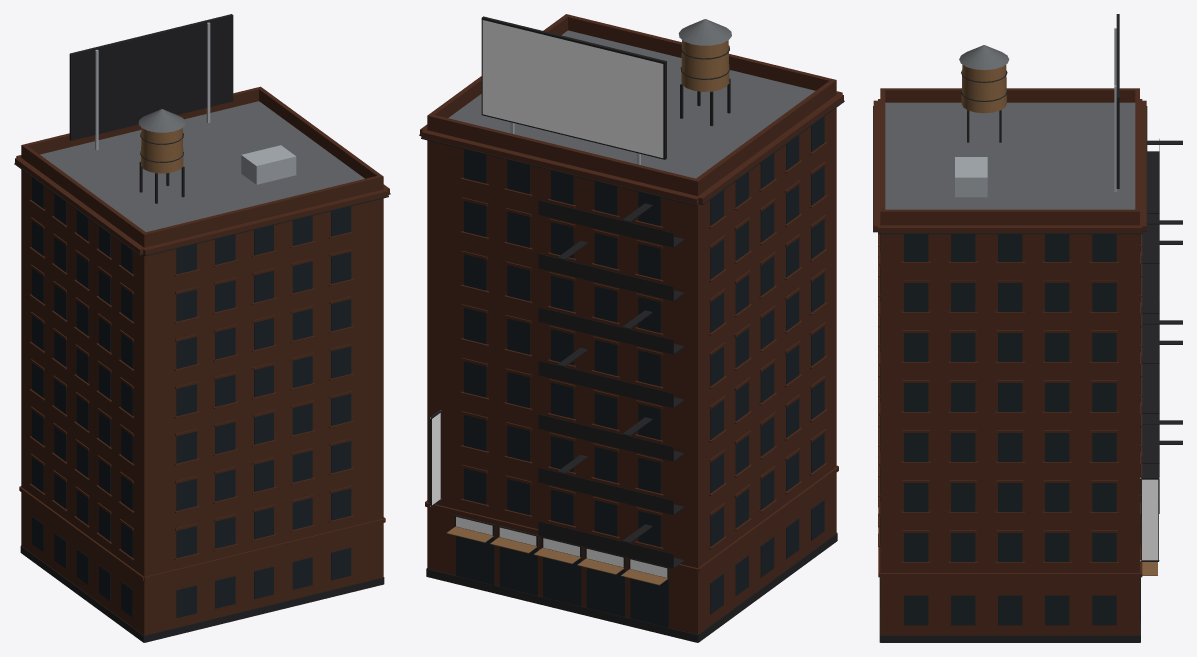
File: B_NY_LOFT.glb
The picture shows the model from 3 angles, left to right: view 1: azimuth 30°, elevation 25°; view 2: azimuth 150°, elevation 25°; view 3: azimuth 270°, elevation 25°; orthographic projection. The views are drawn at different scales.
Parts seen in each view (by area): view 1: propBrick_0, glass_2, roofMetal_6, tread_1, steel_5, wood_4; view 2: propBrick_0, glass_2, tread_1, citySign_3, roofMetal_6, wood_4; view 3: propBrick_0, glass_2, roofMetal_6, tread_1, wood_4, steel_5, citySign_3.
Part boxes in pixels (box(x1,y1,x2,y2)): propBrick_0: box(15, 86, 389, 635); glass_2: box(32, 177, 351, 617); roofMetal_6: box(40, 101, 364, 231); tread_1: box(14, 14, 390, 642); steel_5: box(95, 22, 296, 184); wood_4: box(140, 128, 183, 173); propBrick_0: box(420, 14, 843, 634); glass_2: box(456, 116, 824, 627); tread_1: box(419, 16, 844, 642); citySign_3: box(432, 20, 667, 577); roofMetal_6: box(448, 19, 815, 178); wood_4: box(446, 40, 729, 585); propBrick_0: box(873, 88, 1146, 635); glass_2: box(880, 234, 1140, 625); roofMetal_6: box(885, 45, 1135, 209); tread_1: box(873, 14, 1182, 642); wood_4: box(961, 64, 1157, 575); steel_5: box(955, 28, 1159, 561); citySign_3: box(1142, 479, 1158, 560).
Bounding box in the file's own units: 18.9 × 35.7 × 19.09.
